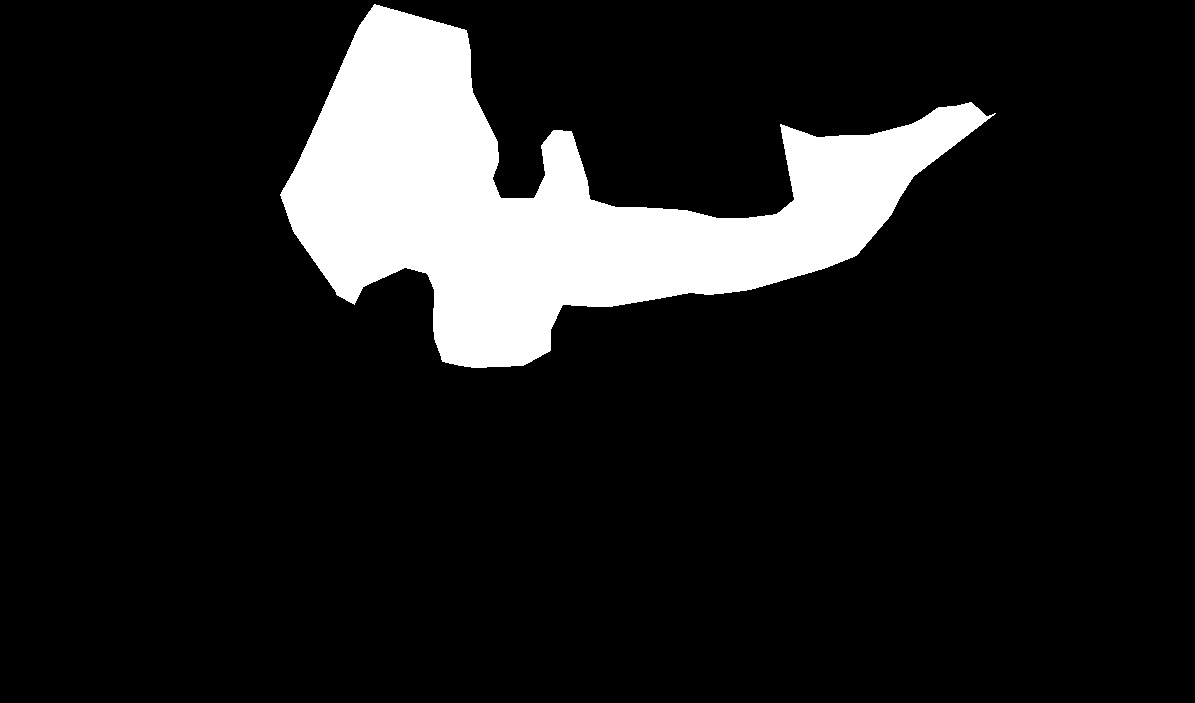Fire: (281, 20, 599, 386)
